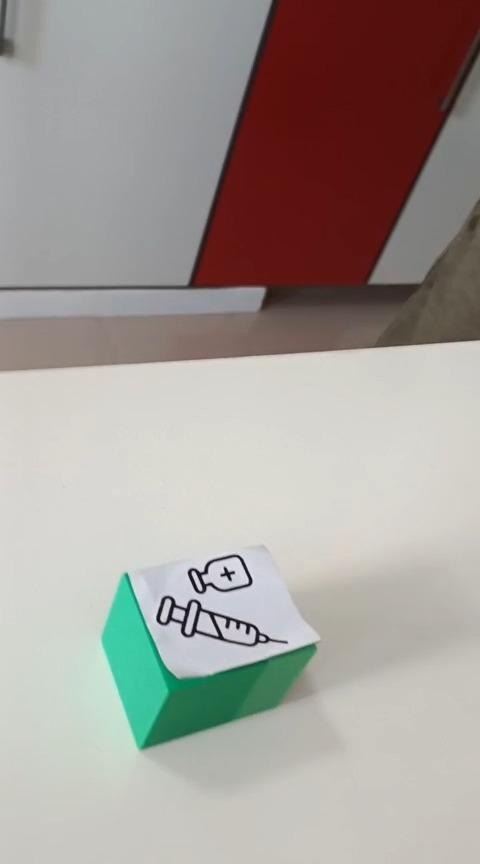antiseptic cream: (100, 542, 321, 750)
